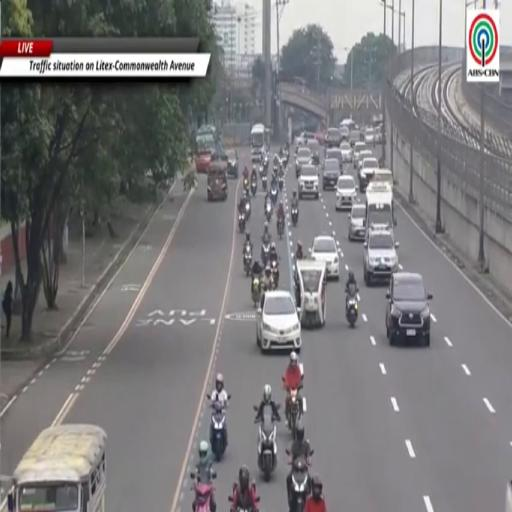bus: (366, 183, 396, 229), (250, 123, 267, 162)
car: (386, 272, 432, 346), (256, 291, 301, 351), (364, 229, 399, 285), (310, 235, 339, 280), (358, 157, 378, 193), (336, 175, 356, 211), (298, 165, 319, 199), (348, 204, 365, 241), (323, 158, 341, 190), (296, 146, 312, 173), (325, 148, 342, 173), (357, 148, 374, 171), (352, 142, 366, 169), (307, 139, 321, 165), (227, 150, 238, 178), (325, 128, 341, 147), (295, 132, 315, 146), (340, 141, 352, 164), (364, 127, 374, 145), (349, 131, 360, 145), (340, 126, 349, 140), (305, 133, 317, 143), (375, 126, 382, 143)
jeepney: (8, 424, 106, 511), (295, 260, 326, 327), (207, 156, 227, 201)
motorcycle: (255, 407, 278, 482), (289, 457, 310, 511), (287, 386, 305, 440), (210, 402, 226, 461), (190, 473, 214, 511), (346, 296, 358, 327), (251, 276, 261, 307), (244, 244, 252, 276), (271, 261, 279, 288), (261, 244, 269, 266), (277, 217, 284, 239), (270, 187, 278, 205), (265, 201, 272, 221), (230, 506, 255, 511), (292, 208, 298, 227), (239, 213, 245, 232), (262, 175, 268, 192), (251, 181, 257, 197), (246, 201, 251, 220), (284, 150, 289, 167), (243, 178, 249, 191), (278, 175, 283, 189), (259, 165, 264, 178), (273, 164, 279, 174), (280, 156, 284, 169), (296, 167, 300, 179)
